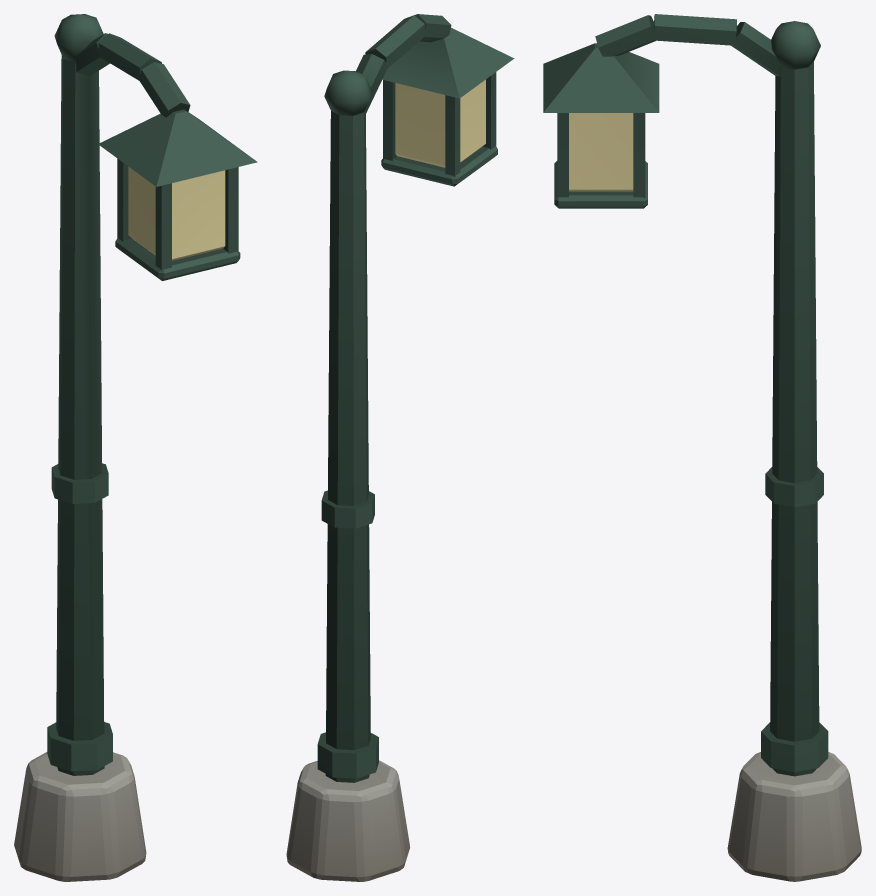
The model's file is lampu.glb.
The picture shows the model from 3 angles, left to right: view 1: azimuth 30°, elevation 25°; view 2: azimuth 150°, elevation 25°; view 3: azimuth 270°, elevation 25°; orthographic projection. The views are drawn at different scales.
Visible parts, largest first — view 1: lampu_mesh; view 2: lampu_mesh; view 3: lampu_mesh.
Part boxes in pixels (x1,y1,x2,y2): lampu_mesh: (14,14,257,881); lampu_mesh: (286,14,514,881); lampu_mesh: (543,14,861,881).
Bounding box in the file's own units: 0.4576 × 3.17 × 1.09.
